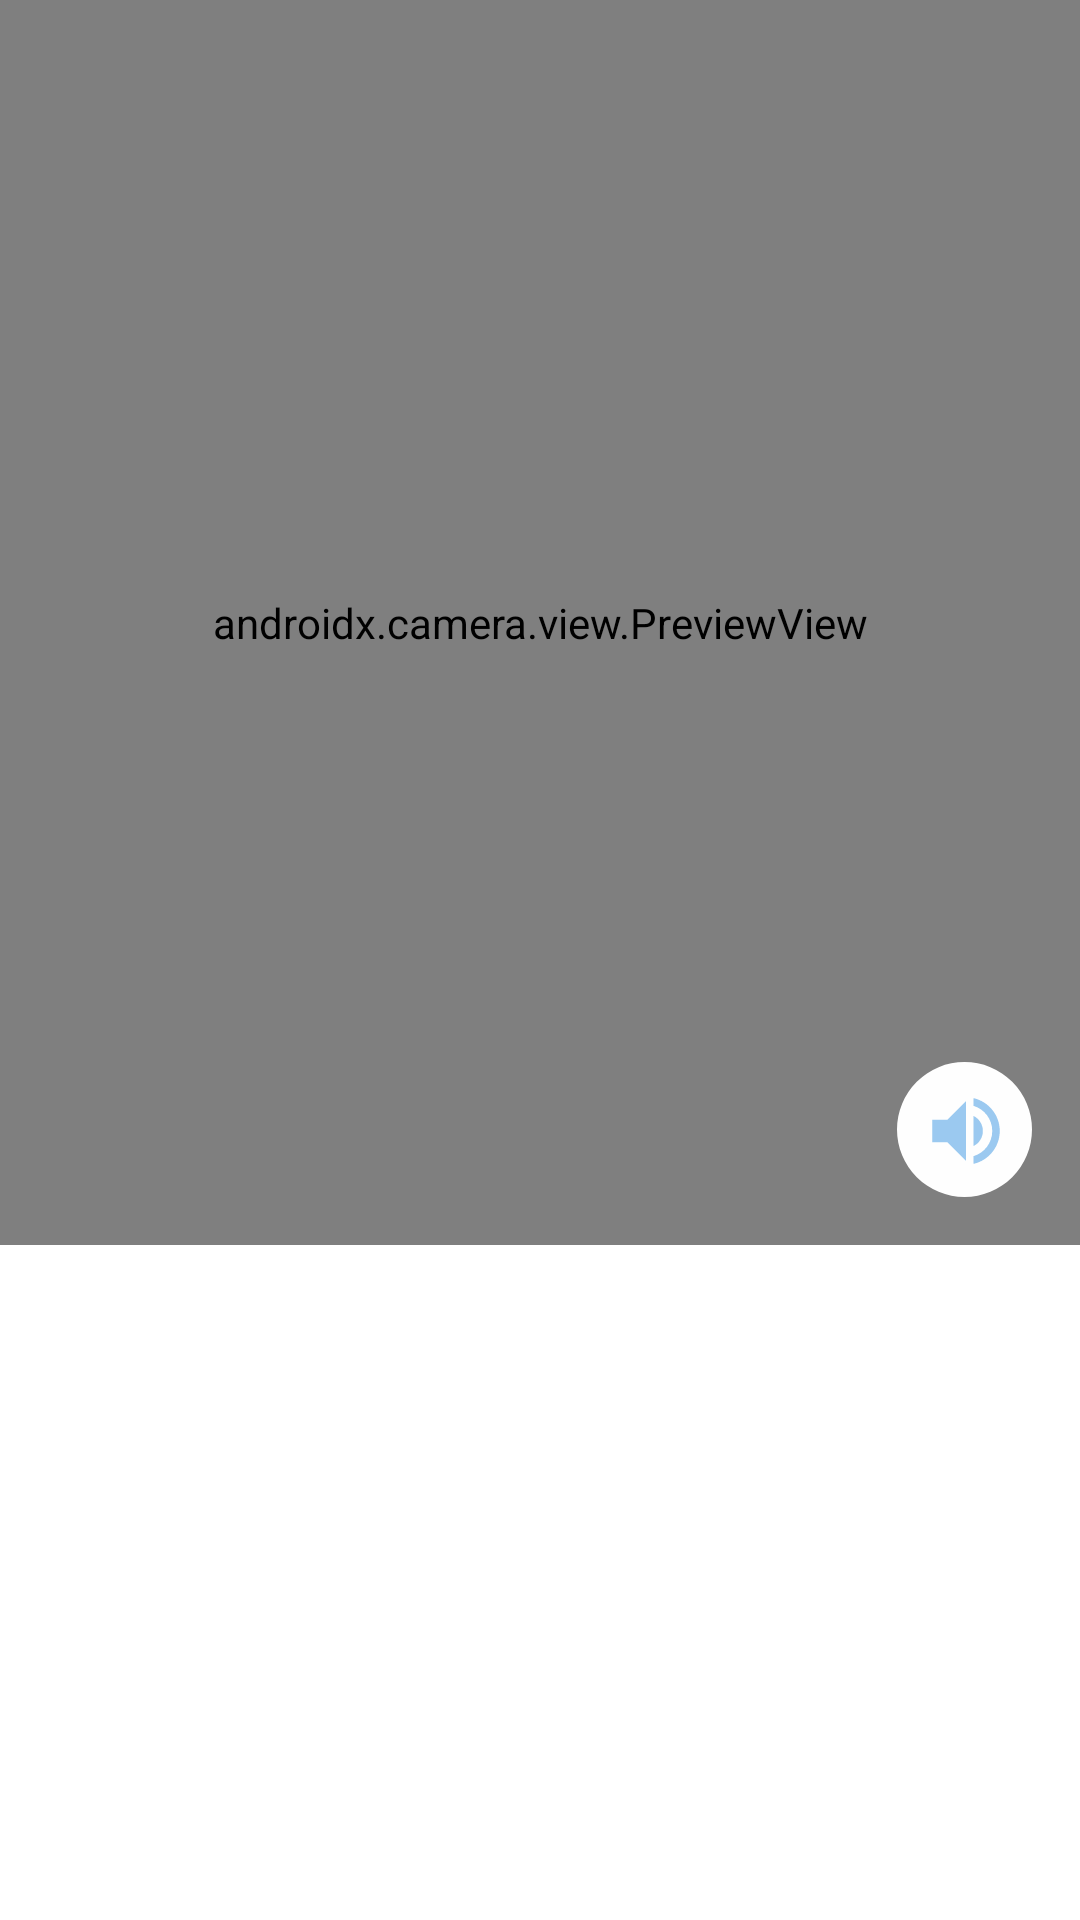

Named icons in this screenshot (1080w x 1920h) and their bounding boxes, (x1, y1, x2, y2):
voice unactive: (897, 1062, 1032, 1197)
